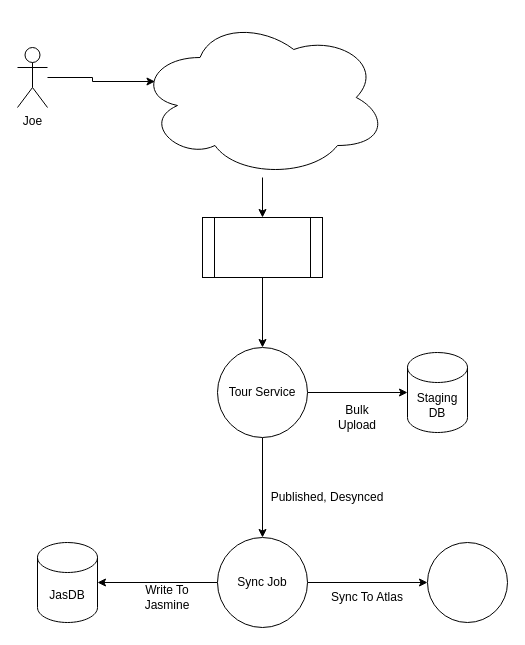
Image size: 525x645. Some labels were removed from this diagram. The box of each missing label's shape, as (x1, y1, x2, y2) in pixels:
Atlas Integrator: (426, 542, 508, 622)
FlatFile Bulk Upload Departures / Optionals / Tours: (136, 16, 388, 178)
UI: (202, 216, 322, 278)
